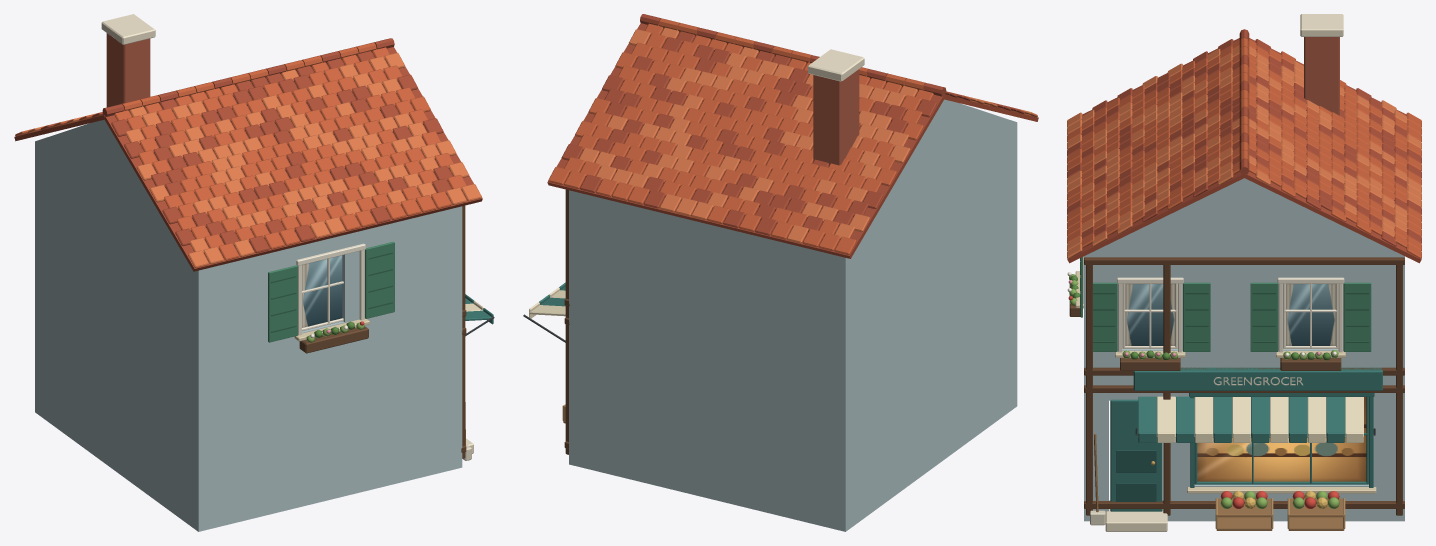
The picture shows the model from 3 angles, left to right: view 1: azimuth 30°, elevation 25°; view 2: azimuth 150°, elevation 25°; view 3: azimuth 270°, elevation 25°; orthographic projection. The views are drawn at different scales.
Visible parts, largest first — view 1: loft_blue_plaster, square_terracotta, square_terracotta_dark, square_terracotta_light, square_shutter, square_brick, square_window_pane, square_white, square_limestone_pale, square_timber, square_wood_dark; view 2: loft_blue_plaster, square_terracotta, square_terracotta_dark, square_terracotta_light, square_brick, square_limestone_pale, square_timber; view 3: loft_blue_plaster, square_terracotta, square_teal, square_terracotta_dark, square_terracotta_light, square_timber, square_shutter, square_window_shop, square_window_pane, square_stripe_cream, square_white, square_wood (+10 smaller).
Boxes of the visible parts, x1=… form: loft_blue_plaster: x1=35, y1=119, x2=462, y2=531; square_terracotta: x1=15, y1=42, x2=466, y2=260; square_terracotta_dark: x1=14, y1=38, x2=482, y2=271; square_terracotta_light: x1=28, y1=52, x2=481, y2=267; square_shutter: x1=268, y1=241, x2=394, y2=342; square_brick: x1=106, y1=33, x2=150, y2=107; square_window_pane: x1=302, y1=255, x2=342, y2=327; square_white: x1=296, y1=243, x2=365, y2=335; square_limestone_pale: x1=101, y1=14, x2=473, y2=453; square_timber: x1=461, y1=205, x2=466, y2=458; square_wood_dark: x1=299, y1=326, x2=368, y2=353; loft_blue_plaster: x1=569, y1=99, x2=1017, y2=531; square_terracotta: x1=548, y1=18, x2=949, y2=254; square_terracotta_dark: x1=547, y1=14, x2=1038, y2=258; square_terracotta_light: x1=579, y1=27, x2=1037, y2=243; square_brick: x1=813, y1=69, x2=859, y2=165; square_limestone_pale: x1=808, y1=49, x2=864, y2=81; square_timber: x1=564, y1=189, x2=569, y2=454; loft_blue_plaster: x1=1084, y1=178, x2=1404, y2=521; square_terracotta: x1=1067, y1=38, x2=1421, y2=258; square_teal: x1=1110, y1=367, x2=1382, y2=511; square_terracotta_dark: x1=1067, y1=29, x2=1421, y2=263; square_terracotta_light: x1=1067, y1=46, x2=1421, y2=258; square_timber: x1=1084, y1=257, x2=1404, y2=515; square_shutter: x1=1080, y1=257, x2=1371, y2=351; square_window_shop: x1=1197, y1=397, x2=1366, y2=481; square_window_pane: x1=1125, y1=284, x2=1335, y2=345; square_stripe_cream: x1=1157, y1=396, x2=1363, y2=442; square_white: x1=1083, y1=256, x2=1344, y2=352; square_wood: x1=1094, y1=434, x2=1344, y2=530.
Bounding box in the file's own units: 6.87 × 7.93 × 6.41.
Materials: 29 (2 with a texture image).
